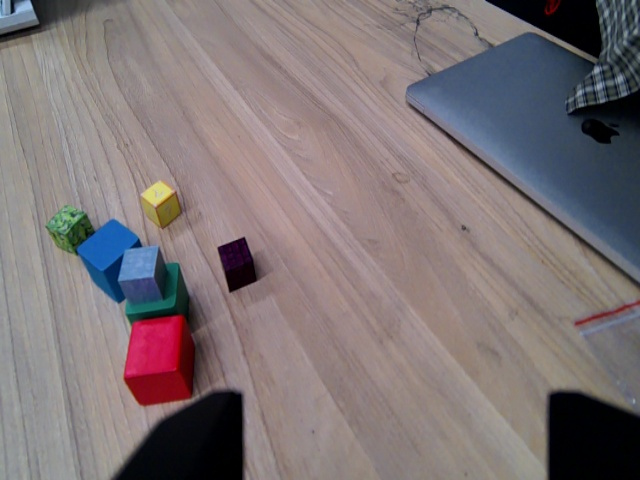brick: (214, 236, 258, 290)
grass: (43, 203, 89, 249)
lucky: (140, 180, 181, 226)
stone: (121, 248, 162, 295)
